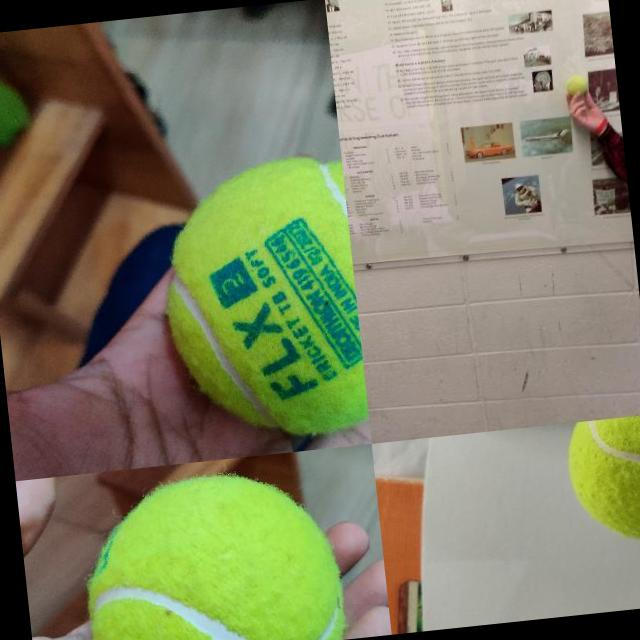Tennis Ball: (152, 152, 368, 447), (75, 463, 346, 640), (561, 414, 640, 551), (564, 74, 588, 99)
